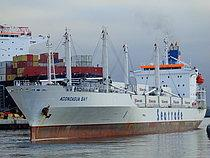Ship: (5, 27, 210, 147)
